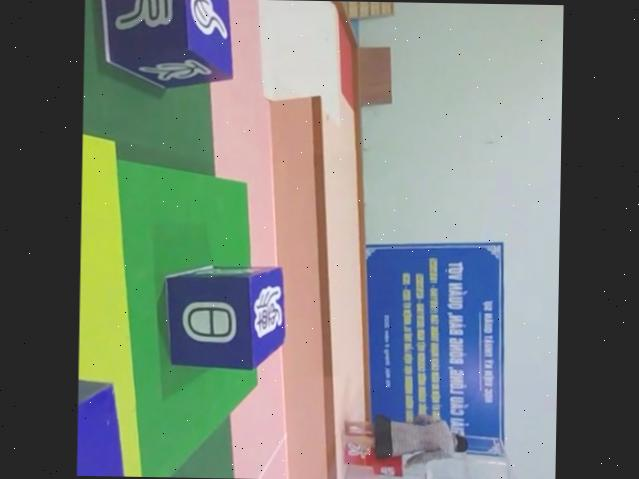R2 Fake Blue: (161, 259, 286, 368), (90, 0, 231, 85)
